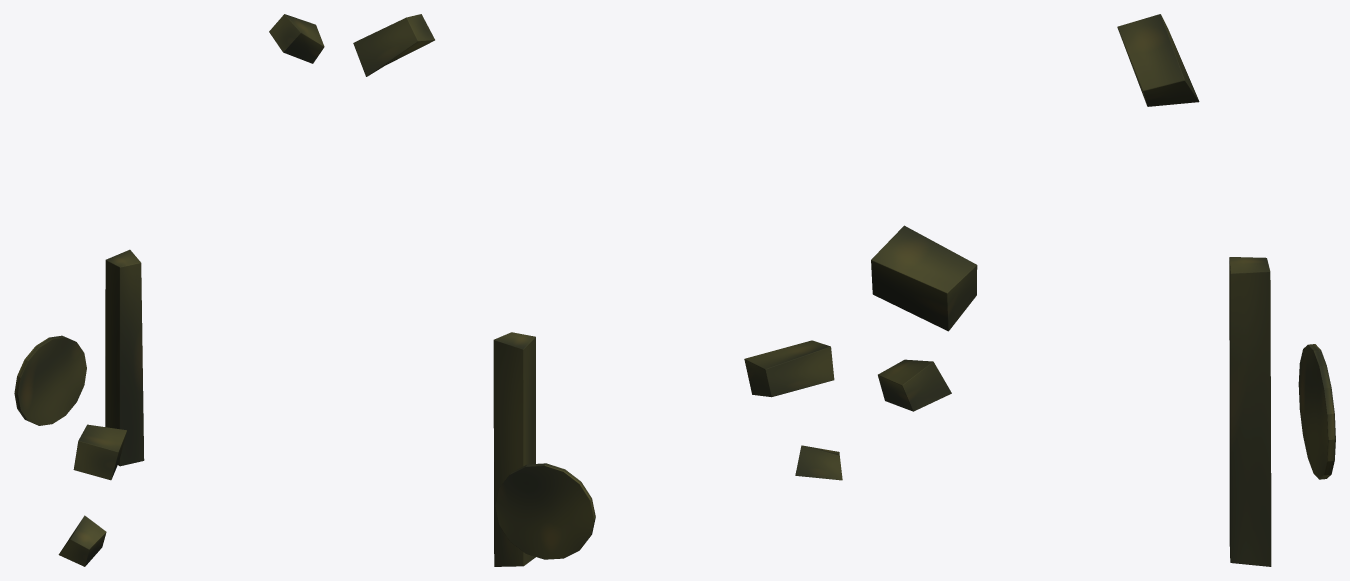
File: planet_ruin_v2.glb
3 renders of one model, left to right at view 1: azimuth 30°, elevation 25°; view 2: azimuth 150°, elevation 25°; view 3: azimuth 270°, elevation 25°, orthographic. The views are drawn at different scales.
Visible parts, largest first — view 1: RuinPillar, RuinRing, RuinFallen, RuinBreak, RuinFrag2; view 2: RuinRing, RuinPillar, RuinFallen, RuinBreak, RuinFrag2; view 3: RuinPillar, RuinFallen, RuinBreak, RuinRing, RuinFrag2.
Part boxes in pixels (x1,y1,x2,y2): RuinPillar: (105,249,144,466); RuinRing: (14,335,86,425); RuinFallen: (73,424,126,480); RuinBreak: (269,14,324,63); RuinFrag2: (58,515,106,566); RuinRing: (495,463,595,559); RuinPillar: (493,332,535,566); RuinFallen: (744,340,834,397); RuinBreak: (353,14,434,76); RuinFrag2: (795,445,842,480); RuinPillar: (1229,257,1271,566); RuinFallen: (871,225,977,331); RuinBreak: (1117,14,1199,106); RuinRing: (1298,344,1335,479); RuinFrag2: (878,359,951,411).
Bounding box in the file's own units: 27.54 × 33.09 × 21.93.
Materials: 1 (1 with a texture image).
